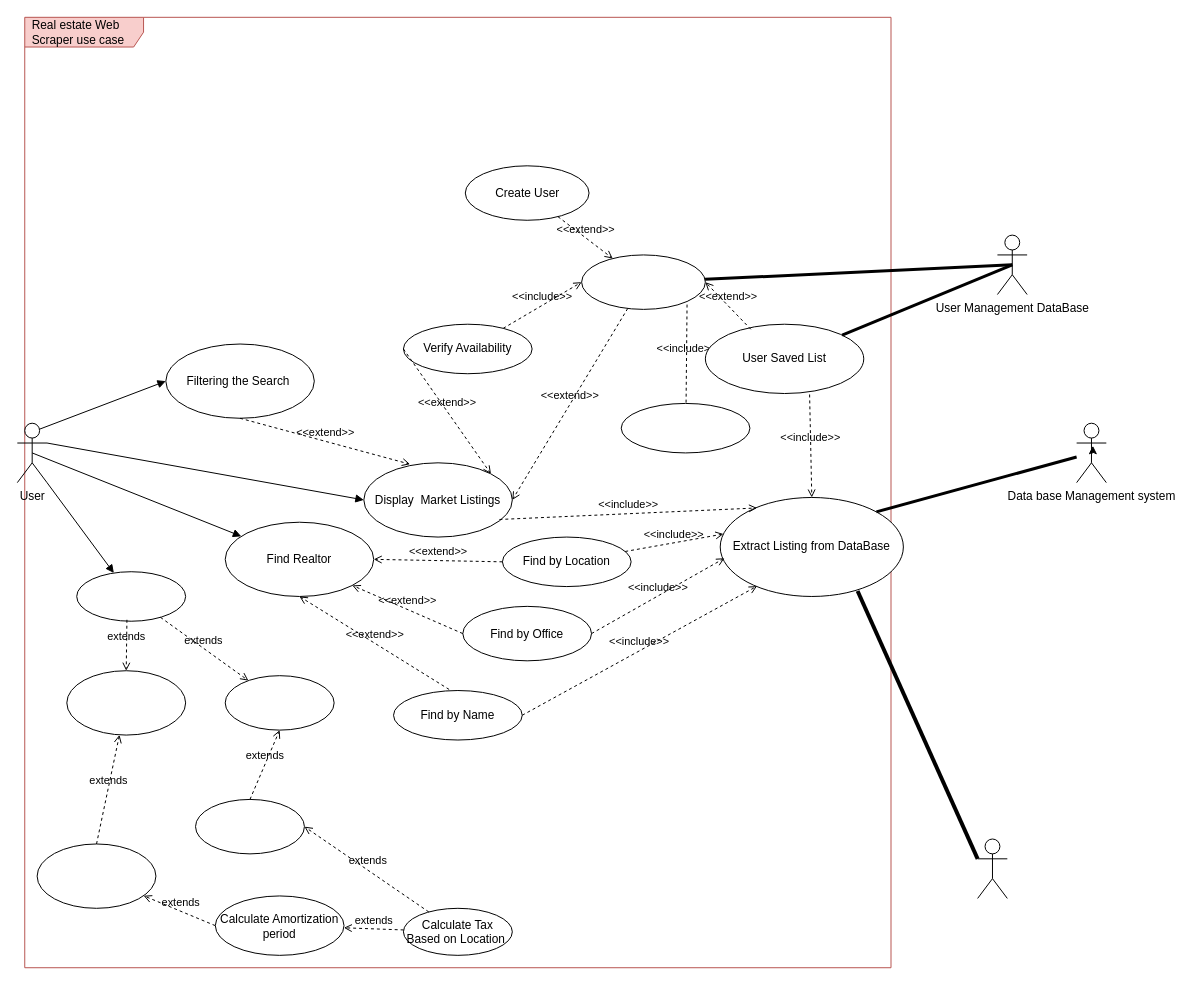
This 1192x985 diagram has some shape labels left out. Each missing label, with the centre of its shape:
"Calculate Down Payment" belongs at (x=96, y=875).
"Calculate Land Transfer Price" belongs at (x=249, y=826).
"Calculate Payment" belongs at (x=126, y=702).
"Land Transfer Tax Calculator" belongs at (x=279, y=702).
"Login" belongs at (x=643, y=281).
"Market Websites" belongs at (x=992, y=868).
"Mortgage Calculator" belongs at (x=131, y=596).
"Redirect to the Listing Website" belongs at (x=685, y=427).
